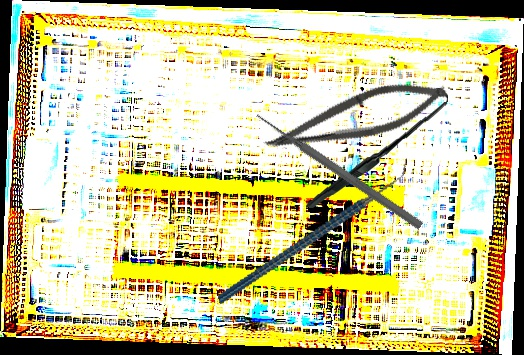Chopper: (195, 156, 431, 305)
Hook Surgical: (305, 81, 449, 215)
Micro Scissor: (258, 63, 454, 175)
Pusher: (253, 109, 425, 232)
